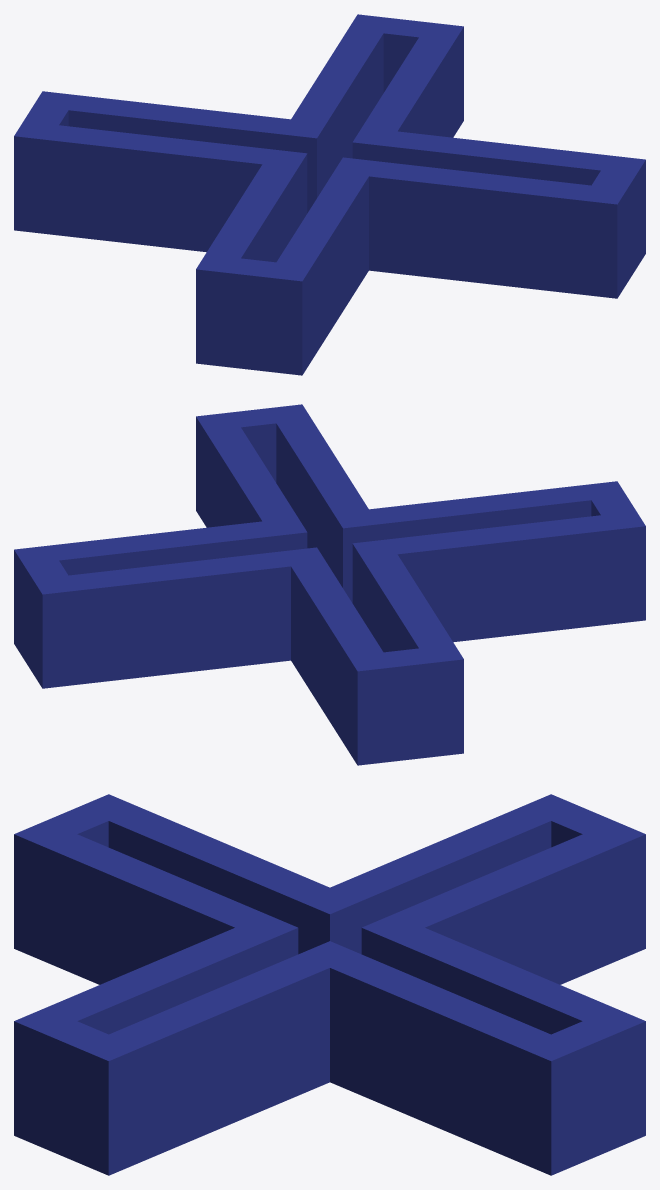
Rendered from NotMaskedAirLeft.fbx.
3 views of the same model, one above another, from view 1: azimuth 30°, elevation 25°; view 2: azimuth 150°, elevation 25°; view 3: azimuth 270°, elevation 25° (orthographic). The views are drawn at different scales.
Parts seen in each view (by area): view 1: Body1; view 2: Body1; view 3: Body1.
Boxes of the visible parts, x1,y1,x2,y2 form: Body1: (14,14,645,375); Body1: (14,404,645,765); Body1: (14,794,645,1175).
Bounding box in the file's own units: 100 × 20 × 100.
